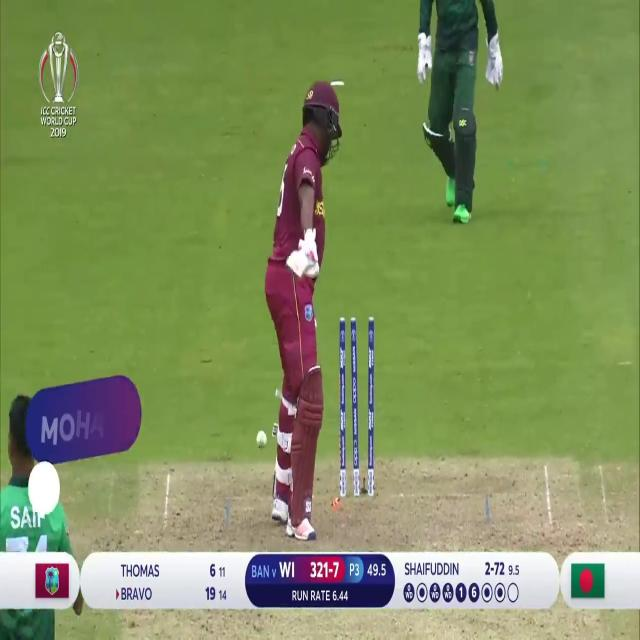ball: (255, 425, 268, 458)
